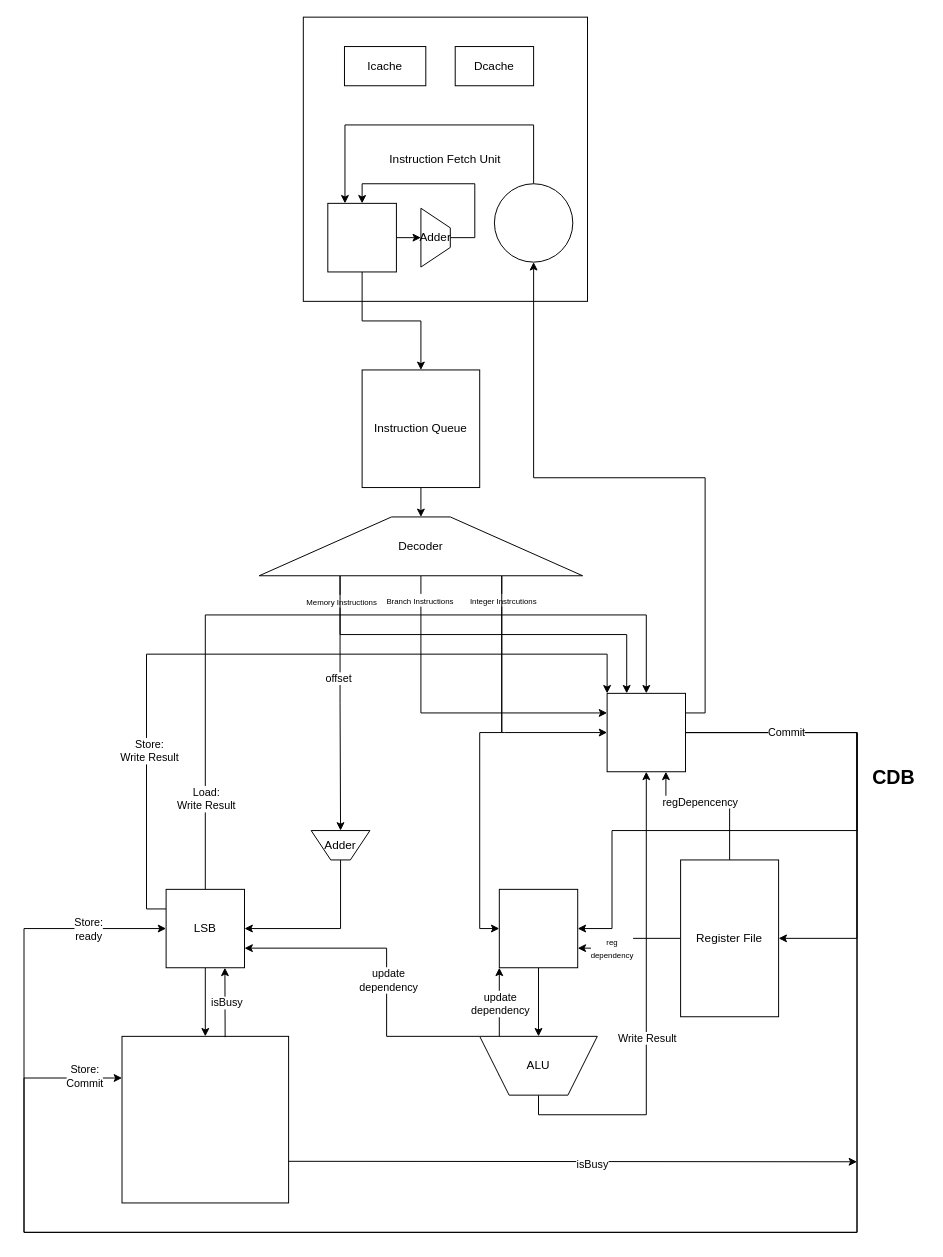
Some shapes in this 943 by 1257 pixel diagram are drawn without their labels. The centre of each missing label's shape, as x and y in pixels:
"Memory" belongs at point 205,1119.
"PC" belongs at point 361,237.
"Predictor" belongs at point 533,222.
"RoB" belongs at point 646,732.
"RS" belongs at point 538,928.
